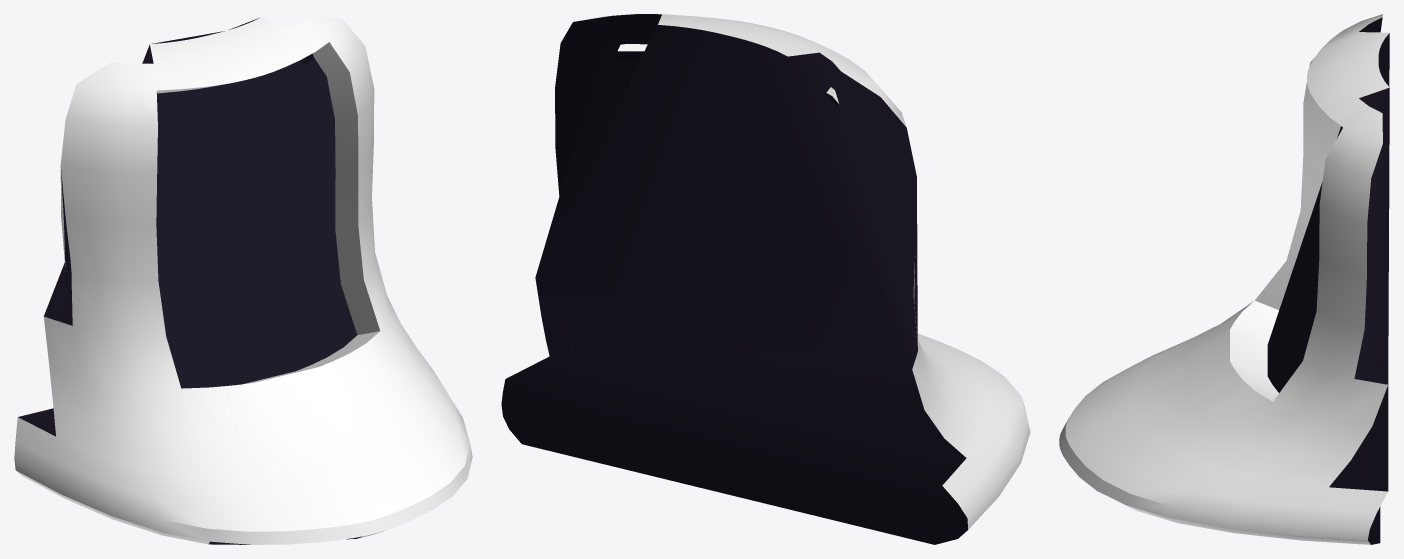
The model's file is skull.fbx.
3 views of the same model, side by side, from view 1: azimuth 30°, elevation 25°; view 2: azimuth 150°, elevation 25°; view 3: azimuth 270°, elevation 25° (orthographic). The views are drawn at different scales.
Visible parts, largest first — view 1: skull; view 2: skull; view 3: skull.
Part boxes in pixels (x1=…): skull: x1=14, y1=14, x2=472, y2=544; skull: x1=501, y1=14, x2=1030, y2=544; skull: x1=1059, y1=14, x2=1389, y2=544.
Size of the model in its own units: 263 by 247 by 187.
